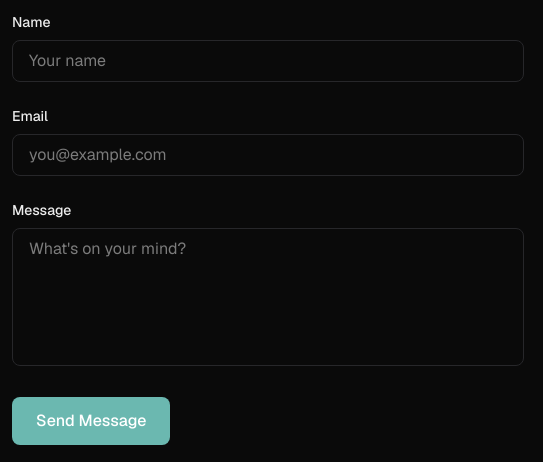
Test case: ContactForm › disables submit button while sending
Type "John Doe" into the field labelled "Name" at (268, 61), box [12,40,524,82]
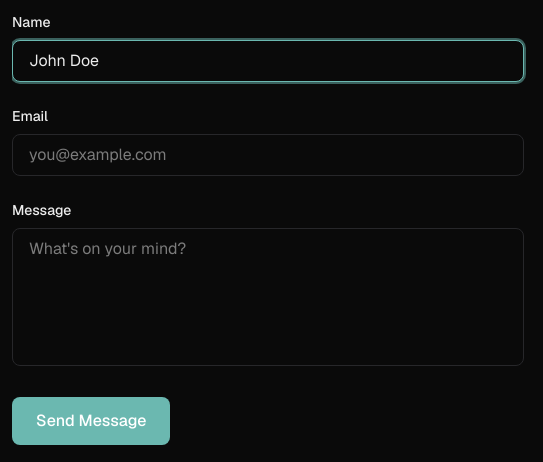
Type "john@example.com" into the field labelled "Email" at (268, 155), box [12,134,524,176]
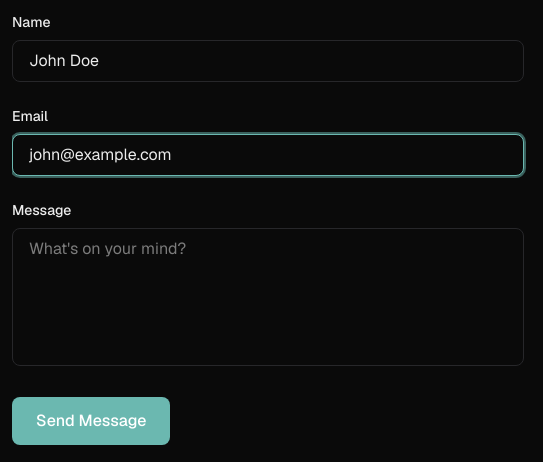
Type "Hello, this is a test message." into the text box labelled "Message" at (268, 297), box [12,228,524,366]
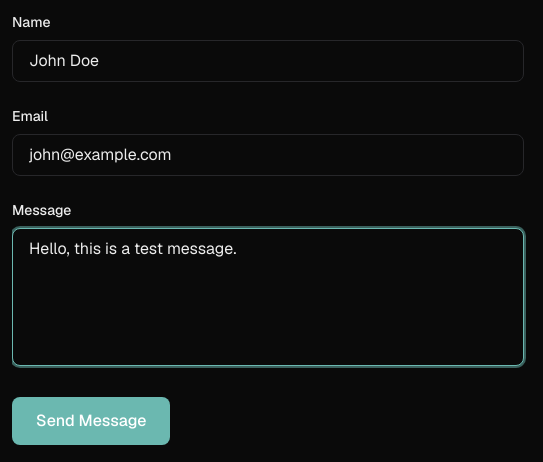
Click the button "Send Message" at (91, 421), box [12,397,170,445]
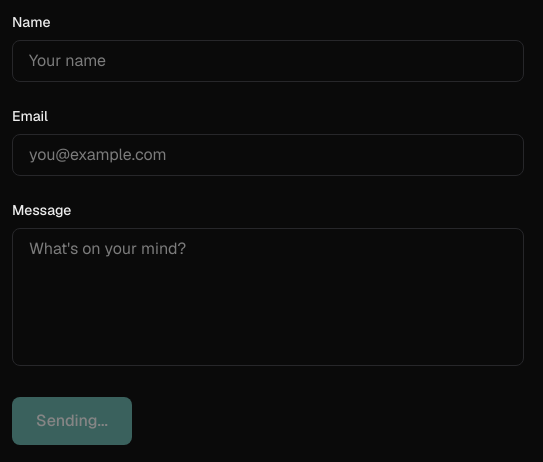
expect the button "Sending..." is disabled: met, box [12,397,132,445]
